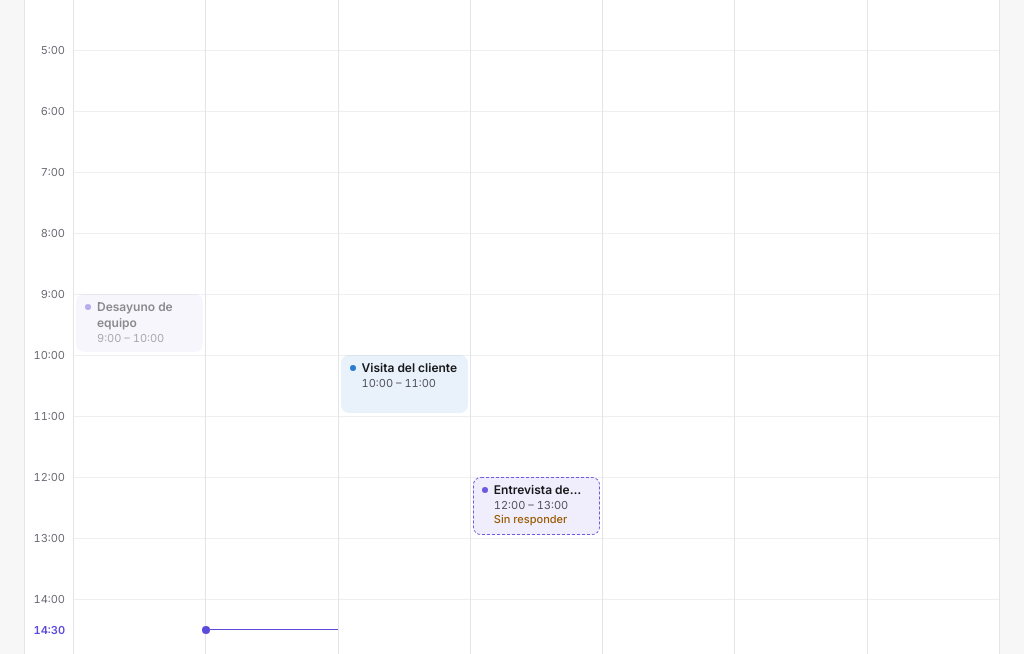
the event panel › an event of a read-only calendar shows the lock and no fields
(page scrolled)
What coordinates should you click on to do the following:
click the button "Visita del cliente 10:00 – 11:00"
I would click on:
 (404, 384)
Its box is [341,355,468,413].
(page scrolled)
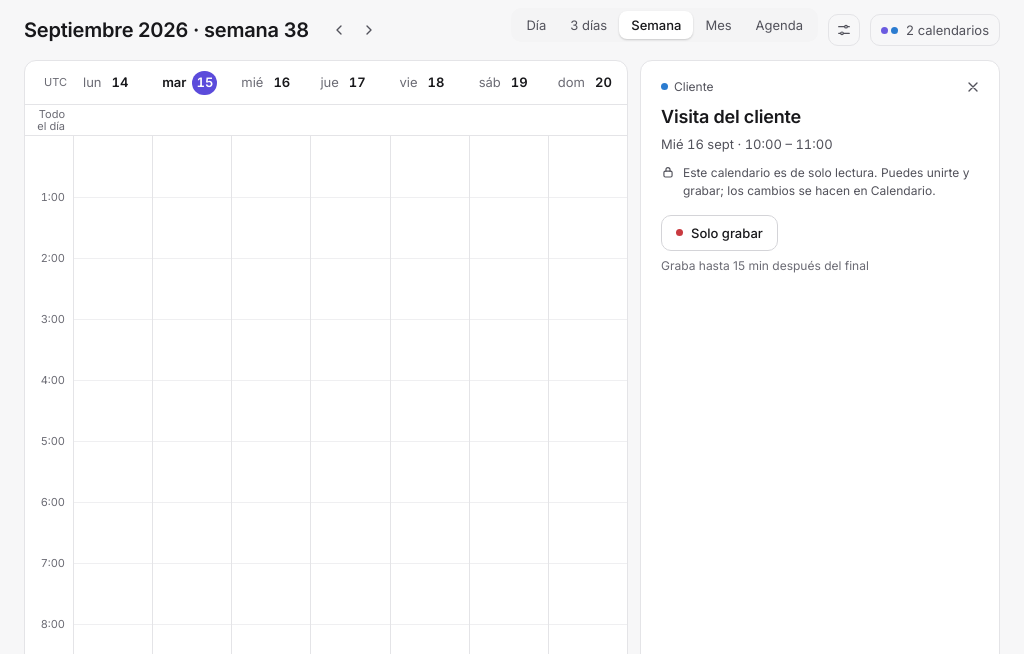
Expected: the heading "Visita del cliente" is shown, [661,106,801,127]
Expected: the text "Este calendario es de solo lectura." is shown, [683,165,970,198]
